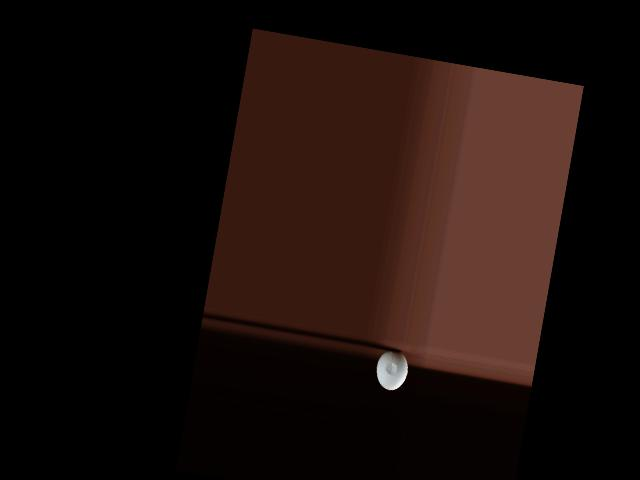egg: (373, 347, 410, 392)
